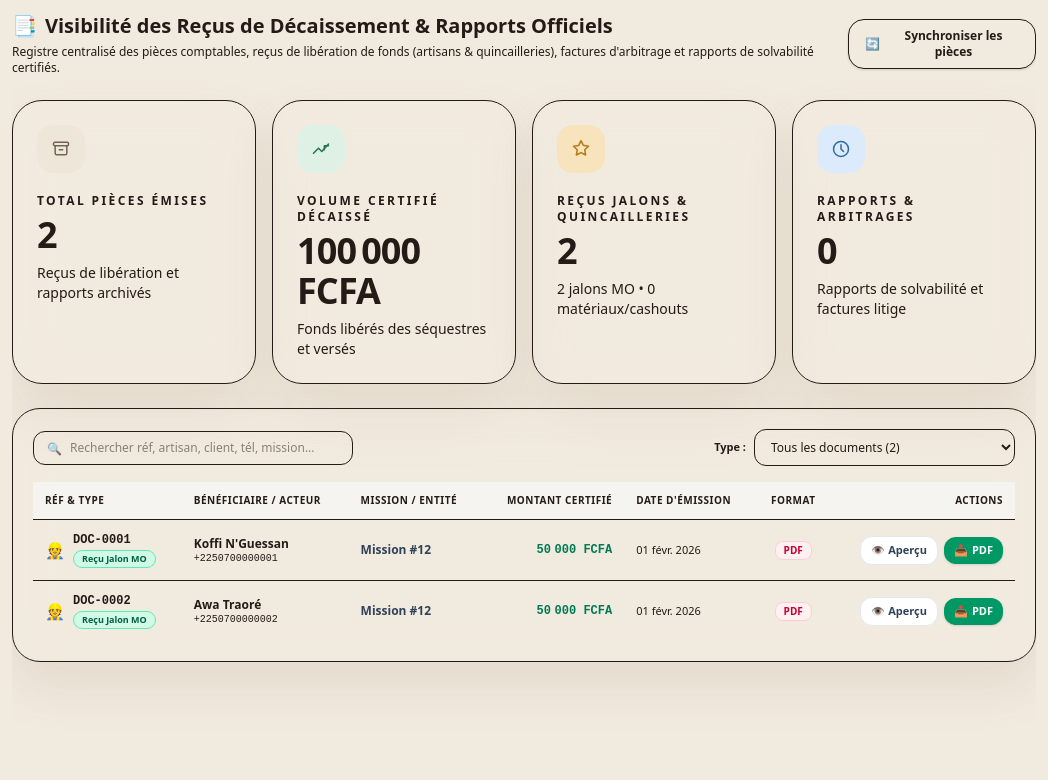
Test case: DocumentsReportsSection › filtre les documents par recherche textuelle
Type "Awa" into the field with placeholder "Rechercher réf, artisan, client, tél, mission..." at (193, 448), box [33, 430, 353, 464]
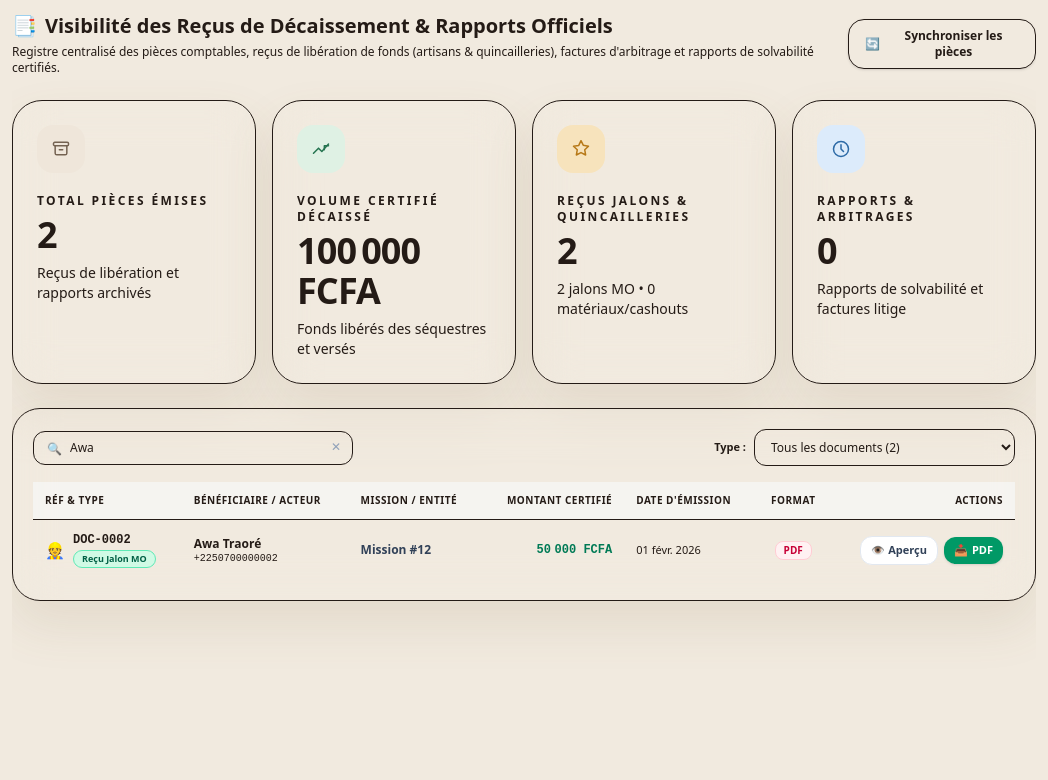
Expected: the text "DOC-0002" is shown, [73, 533, 131, 547]
Expected: the text "DOC-0001" is gone
